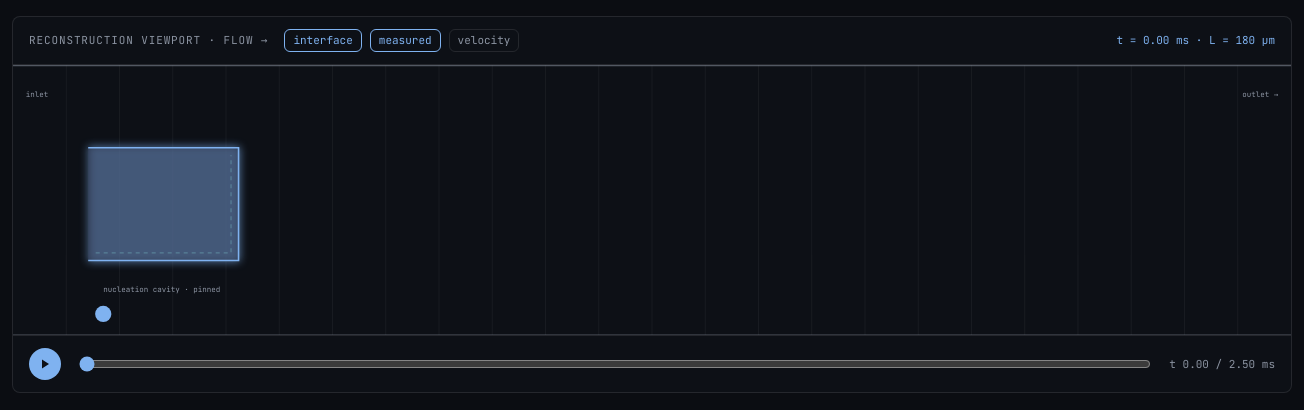
Test case: ReconstructionViewport › toggles layers off and scrubs to a later instant
Click the button "measured": (405,40) [370,29,441,52]
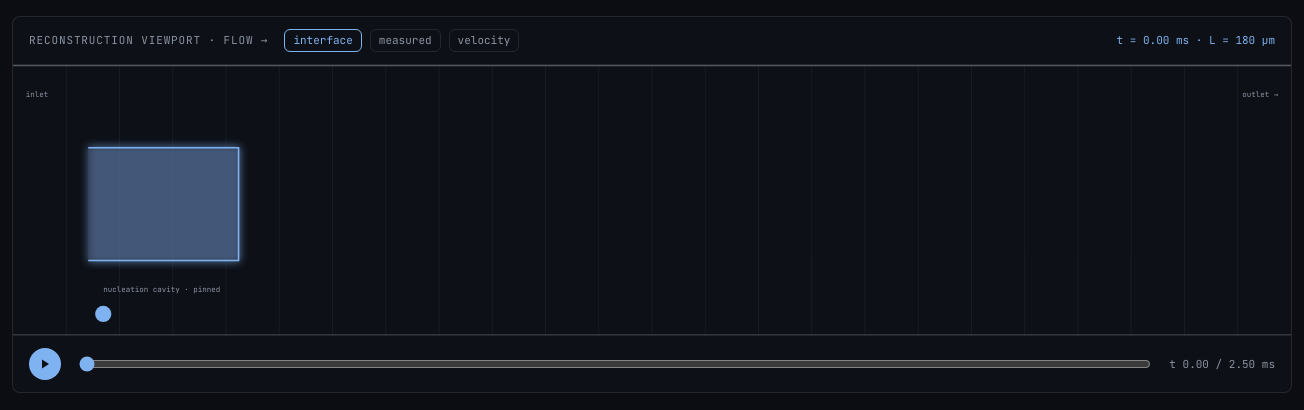
Click the button "interface": (323,40) [284,29,362,52]
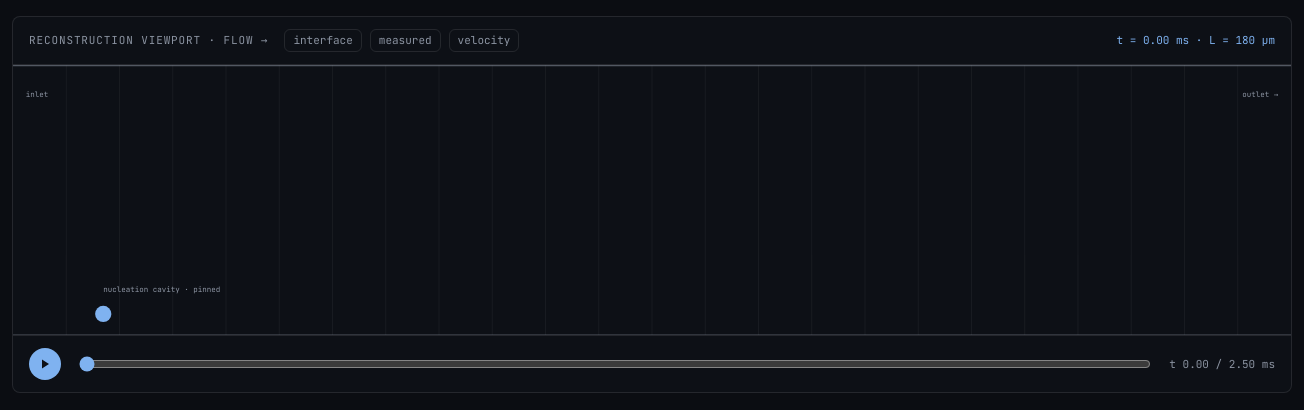
Set the slider named "Scrub reconstruction time" to "1": (1143,364) [79,356,1151,372]
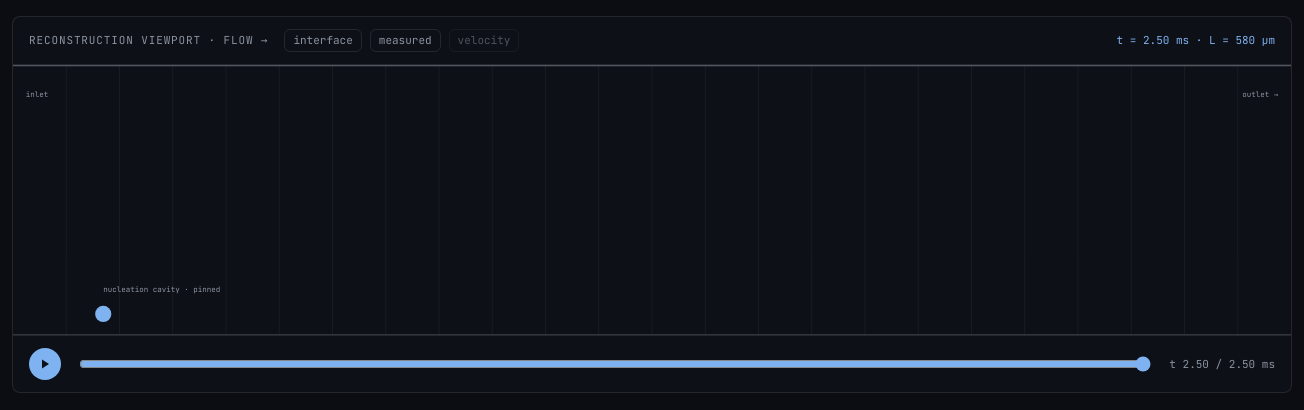
Expected: the text "t = 2.50 ms · L = 580 µm" is shown, [1117,32,1275,48]
Expected: the text "t 2.50 / 2.50 ms" is shown, [1169,356,1275,372]
